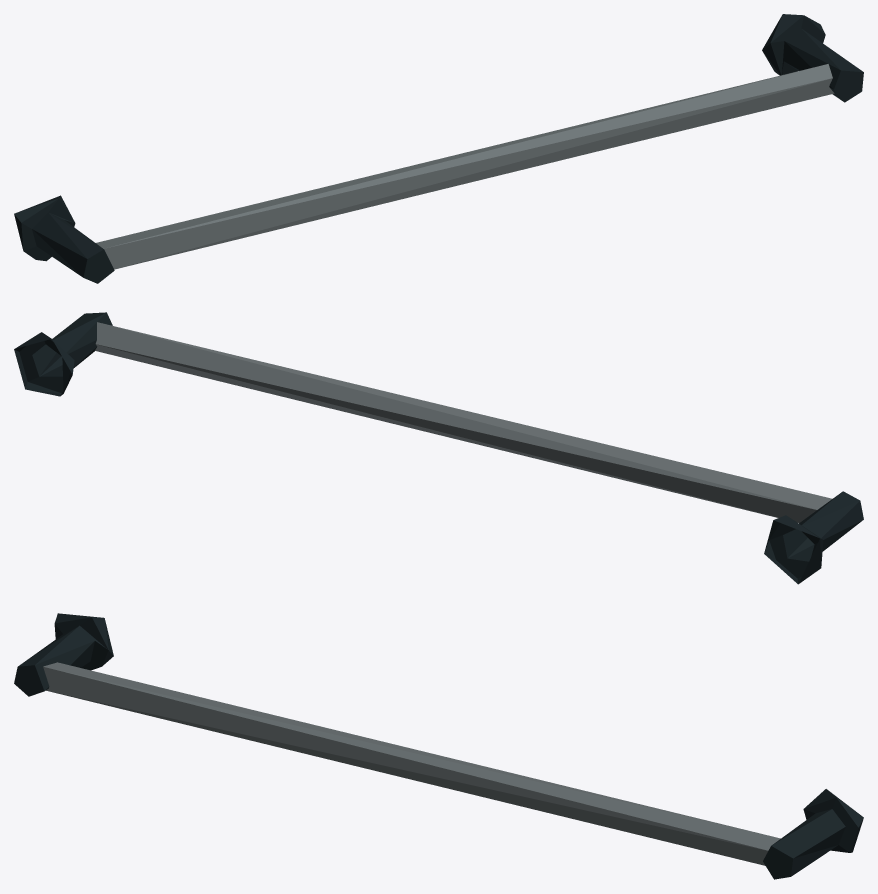
File: ShelfMetal.fbx
3 views of the same model, one above another, from view 1: azimuth 30°, elevation 25°; view 2: azimuth 150°, elevation 25°; view 3: azimuth 330°, elevation 25° (orthographic).
Parts seen in each view (by area): view 1: ShelfMetalLowPoly; view 2: ShelfMetalLowPoly; view 3: ShelfMetalLowPoly.
Boxes of the visible parts, bbox=[...] form: ShelfMetalLowPoly: bbox=[14, 14, 863, 283]; ShelfMetalLowPoly: bbox=[14, 312, 863, 584]; ShelfMetalLowPoly: bbox=[14, 613, 863, 879].
Bounding box in the file's own units: 55.65 × 4.2 × 6.85.
